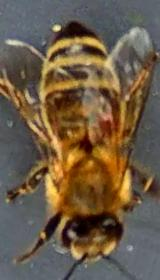varroa_mite: (92, 103, 118, 142)
